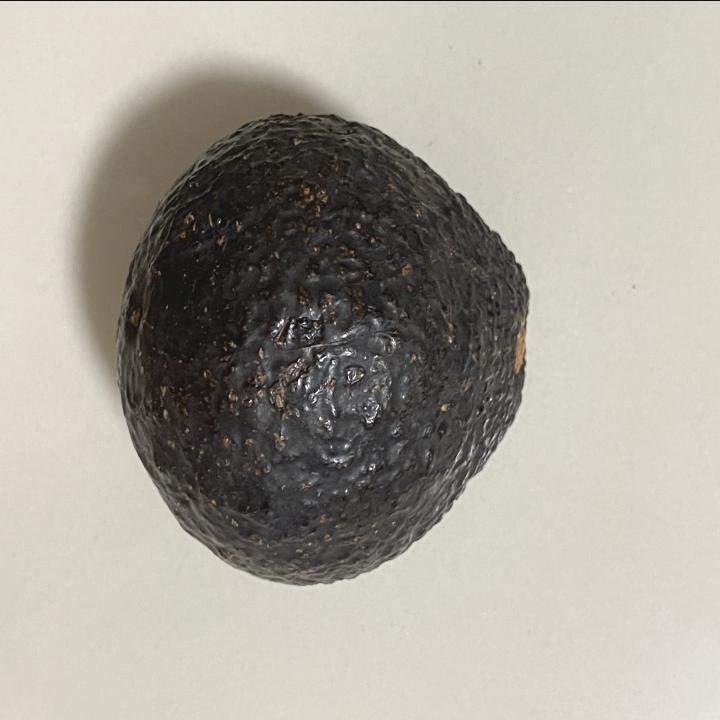Level3: (109, 104, 543, 596)
